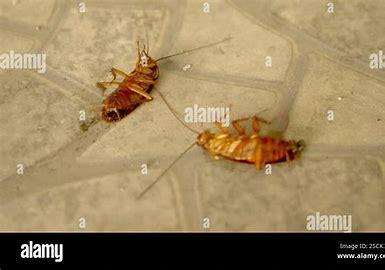cockroach: (82, 30, 183, 121), (185, 127, 301, 167)
